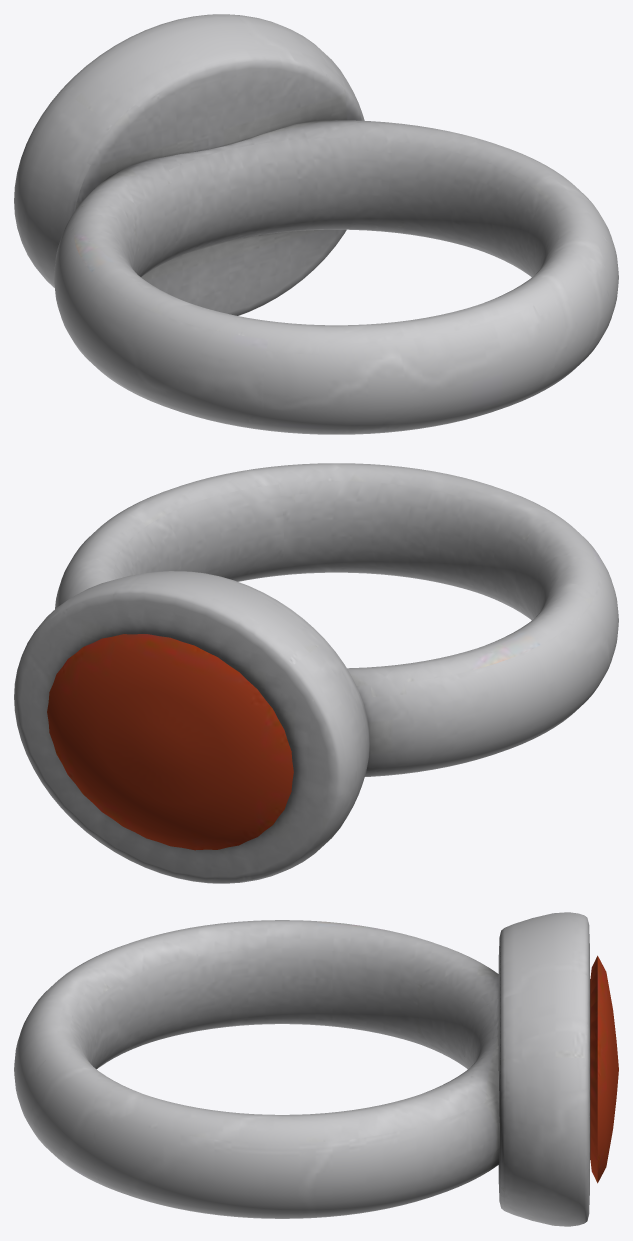
The model's file is signet_ring.glb.
3 views of the same model, one above another, from view 1: azimuth 30°, elevation 25°; view 2: azimuth 150°, elevation 25°; view 3: azimuth 270°, elevation 25° (orthographic). The views are drawn at different scales.
Parts seen in each view (by area): view 1: signet_ring; view 2: signet_ring; view 3: signet_ring.
Part boxes in pixels (bbox=[...]): signet_ring: bbox=[14, 14, 618, 434]; signet_ring: bbox=[14, 463, 618, 883]; signet_ring: bbox=[14, 912, 618, 1226].
Size of the model in its own units: 0.0244 by 0.0137 by 0.0275.
1 material, 1 textured.
